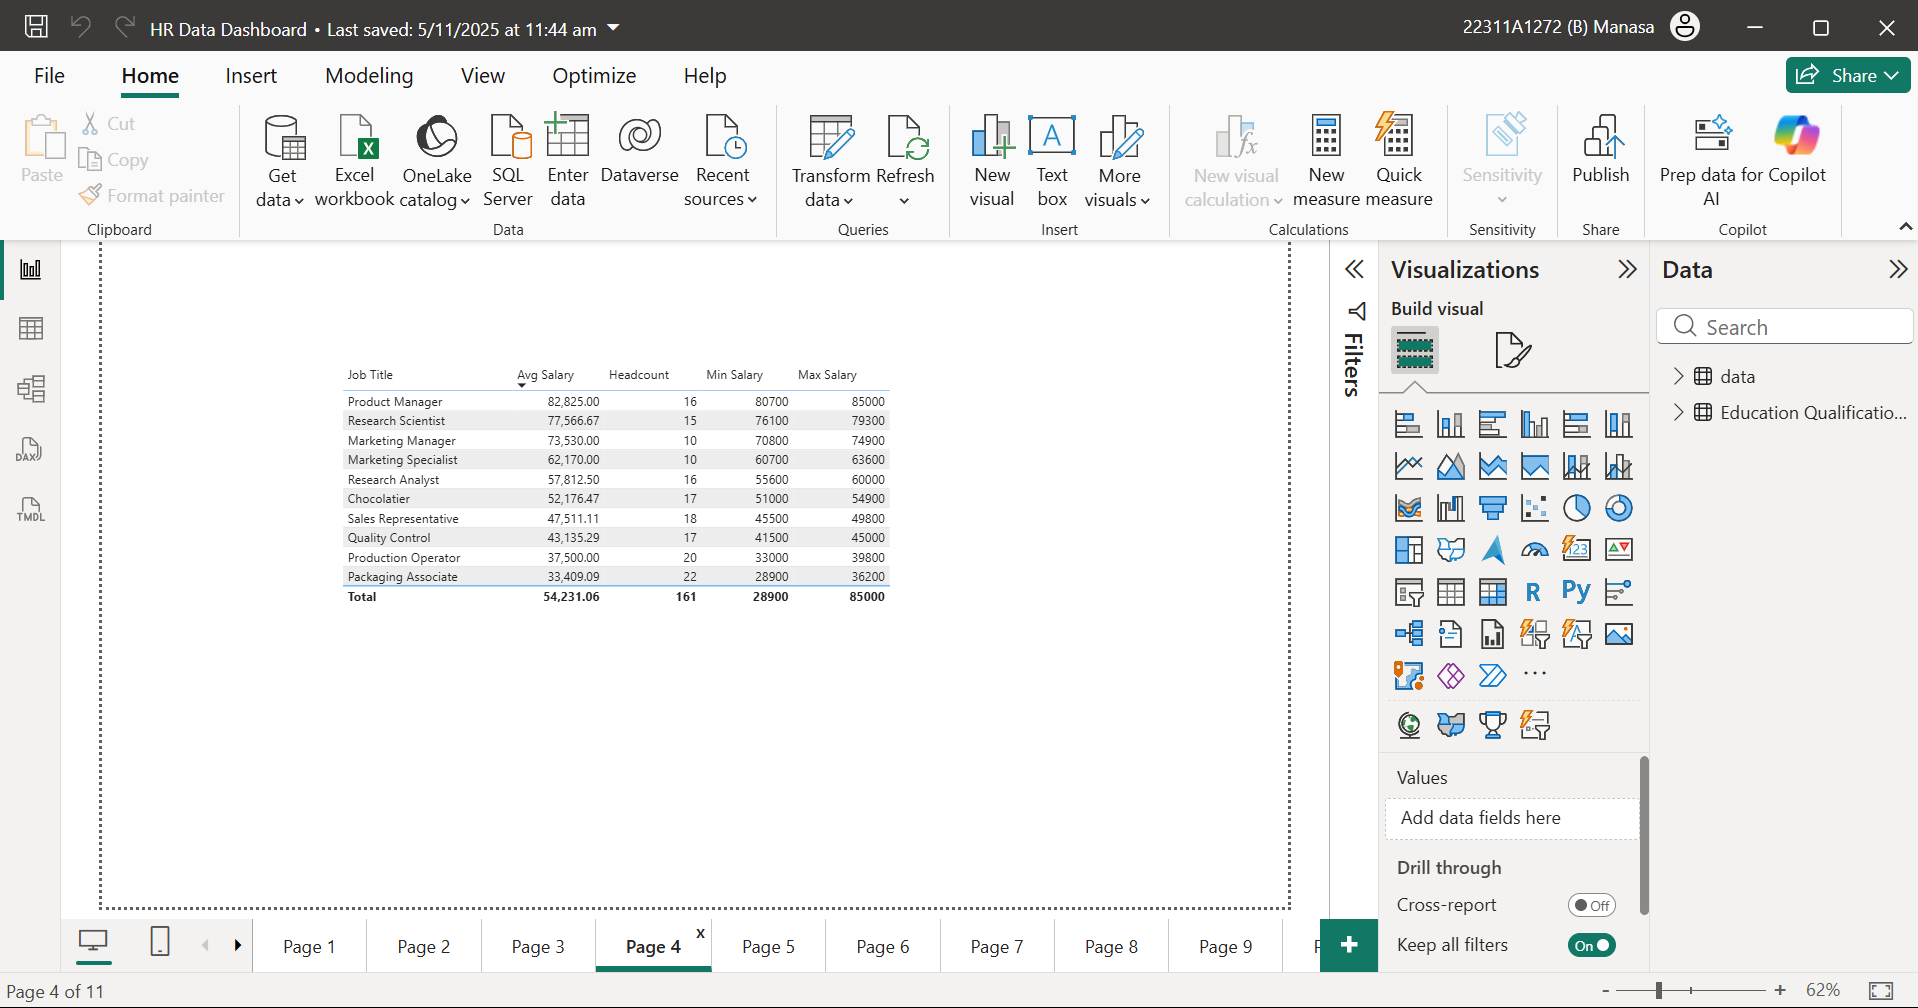

What the dashboard file says about the page in this screenshot:
{"tool":"powerbi","page":{"name":"Page 4","canvas":[1280,720],"ordinal":3},"visuals":[{"type":"tableEx","fields":{"Values":["data.Job Title","data.Avg Salary","data.Headcount","data.Min Salary","data.Max Salary"]},"box":[255,130,603.3,270],"z":0}]}

Visuals, with their boxes on the page's 1280x720 design canvas (x1, y1, x2, y2). These are canvas units, not pixel positions in the 1918x1008 screenshot, which may show the page scaled, cropped or inside an application window:
tableEx - data.Job Title x data.Avg Salary: l=255, t=130, r=858, b=400
